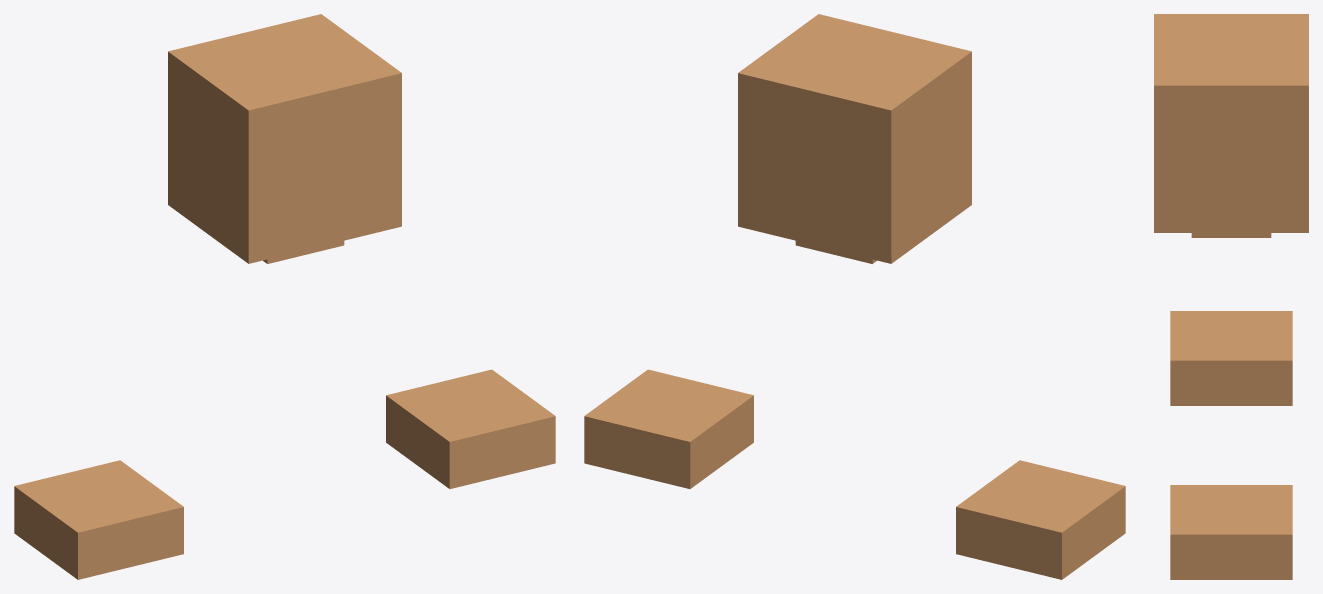
File: Cuerpo.fbx
3 renders of one model, left to right at view 1: azimuth 30°, elevation 25°; view 2: azimuth 150°, elevation 25°; view 3: azimuth 270°, elevation 25°, orthographic. The views are drawn at different scales.
Parts seen in each view (by area): view 1: Cuerpo_Head, Cuerpo_RightHand, Cuerpo_LeftHand; view 2: Cuerpo_Head, Cuerpo_RightHand, Cuerpo_LeftHand; view 3: Cuerpo_Head, Cuerpo_LeftHand, Cuerpo_RightHand, Cuello_Piel.
Boxes of the visible parts, bbox=[...] form: Cuerpo_Head: bbox=[168, 14, 401, 263]; Cuerpo_RightHand: bbox=[14, 460, 183, 579]; Cuerpo_LeftHand: bbox=[386, 369, 555, 488]; Cuerpo_Head: bbox=[738, 14, 971, 263]; Cuerpo_RightHand: bbox=[956, 460, 1125, 579]; Cuerpo_LeftHand: bbox=[584, 369, 753, 488]; Cuerpo_Head: bbox=[1154, 14, 1308, 232]; Cuerpo_LeftHand: bbox=[1170, 485, 1292, 579]; Cuerpo_RightHand: bbox=[1170, 311, 1292, 405]; Cuello_Piel: bbox=[1191, 233, 1271, 237].
Size of the model in its own units: 3.78 by 3.3 by 1.11.
